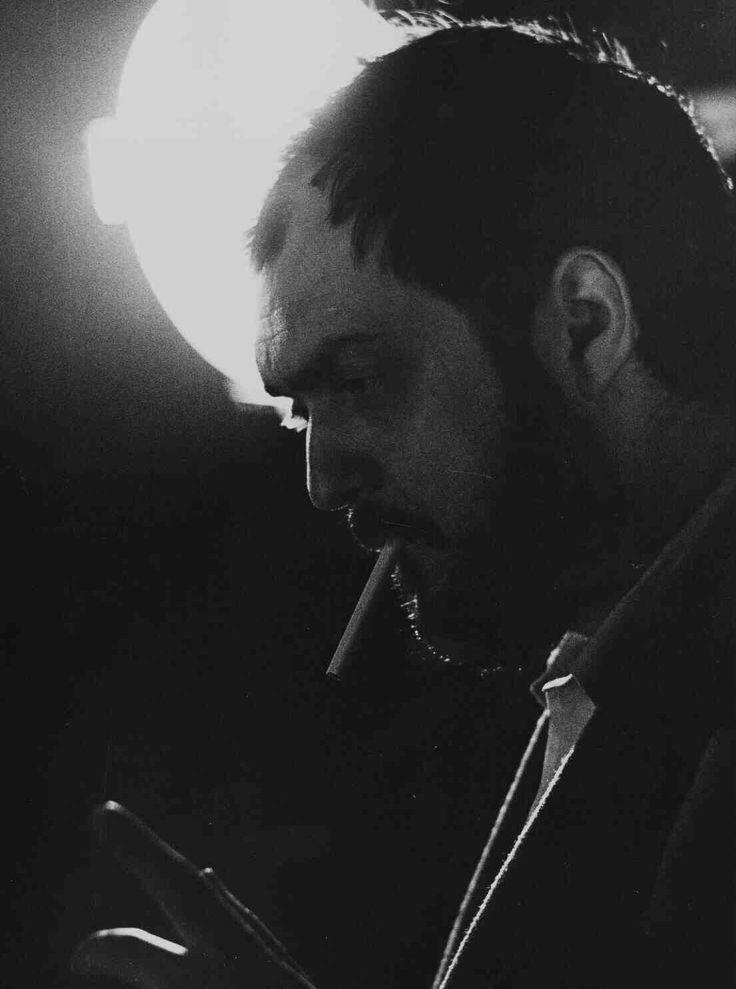cigarette: (325, 537, 402, 685)
